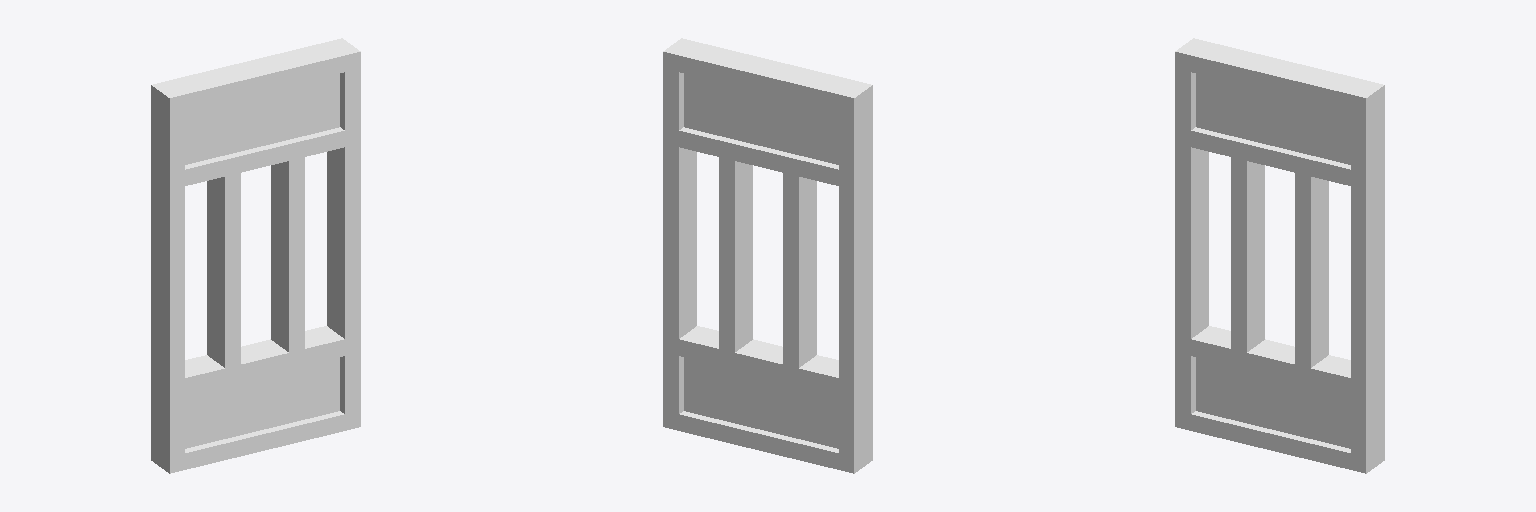
Rendered from door.obj.
The picture shows the model from 3 angles: view 1: azimuth 30°, elevation 25°; view 2: azimuth 150°, elevation 25°; view 3: azimuth 330°, elevation 25°; orthographic projection.
Size of the model in its own units: 24 by 45 by 4.